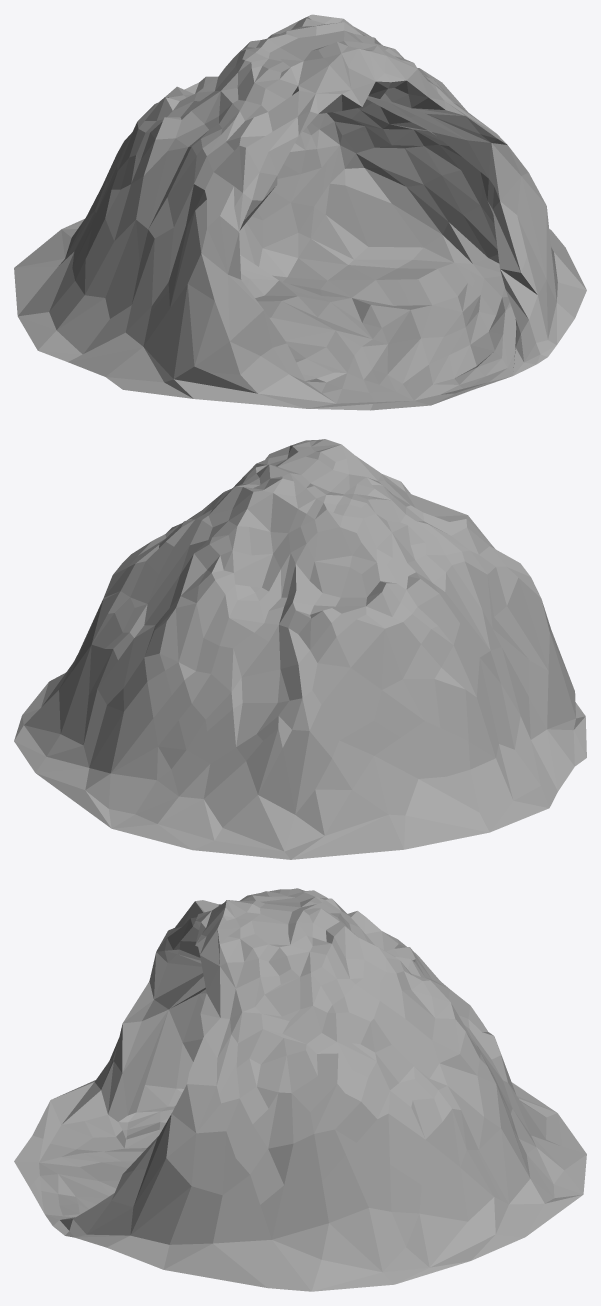
Rendered from cave_arch.glb.
The picture shows the model from 3 angles, top to bottom: view 1: azimuth 30°, elevation 25°; view 2: azimuth 150°, elevation 25°; view 3: azimuth 270°, elevation 25°; orthographic projection.
Parts seen in each view (by area): view 1: PP_Cave_Small_01; view 2: PP_Cave_Small_01; view 3: PP_Cave_Small_01.
Part boxes in pixels (box(x1,y1,x2,y2)): PP_Cave_Small_01: box(14, 14, 586, 410); PP_Cave_Small_01: box(14, 439, 586, 859); PP_Cave_Small_01: box(14, 888, 586, 1291).
Size of the model in its own units: 12.13 by 6.5 by 11.84.
1 material, 1 textured.
